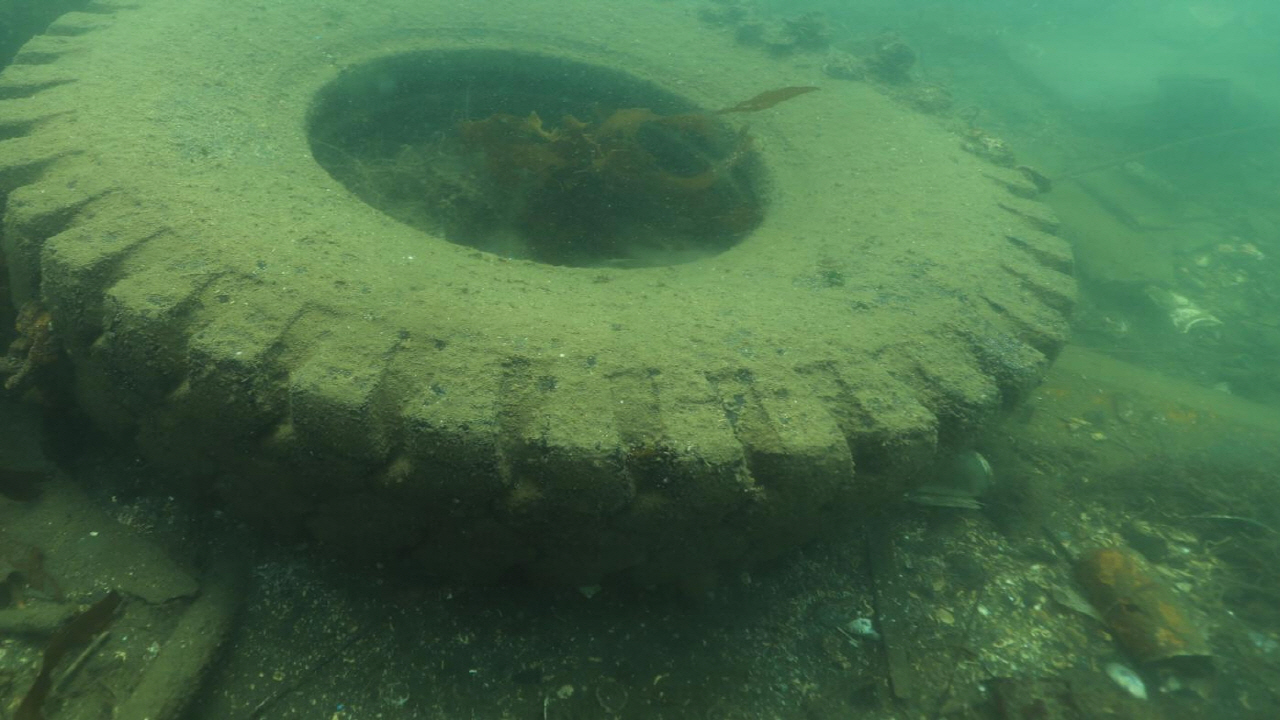tire: (0, 0, 1076, 590)
